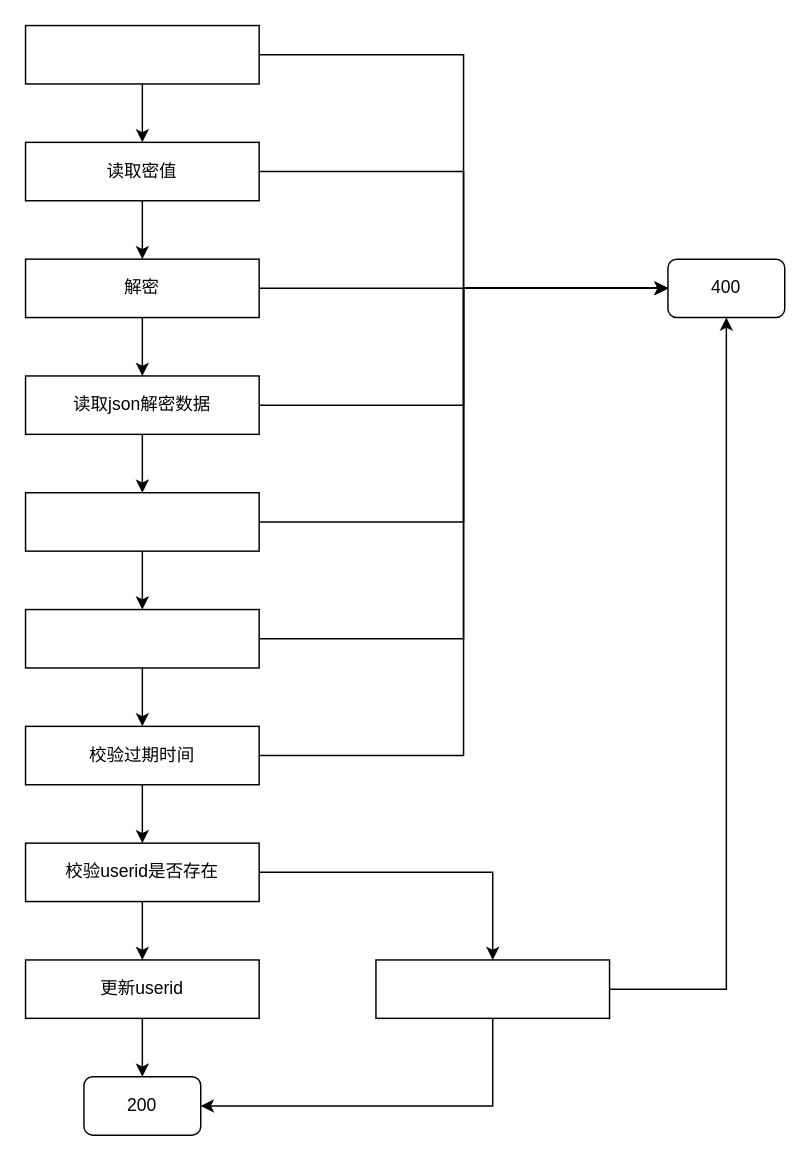
This 810x1161 diagram has some shape labels left out. The shapes that lost their labels are listed below. From the top down, each one's centre as x and y in pixels, then its label:
[141,54]: 读取json加密数据 json.loads(request.data)
[141,521]: 读取明文数据
[141,638]: 查询二维码数据
[492,988]: 校验userid是否相同
